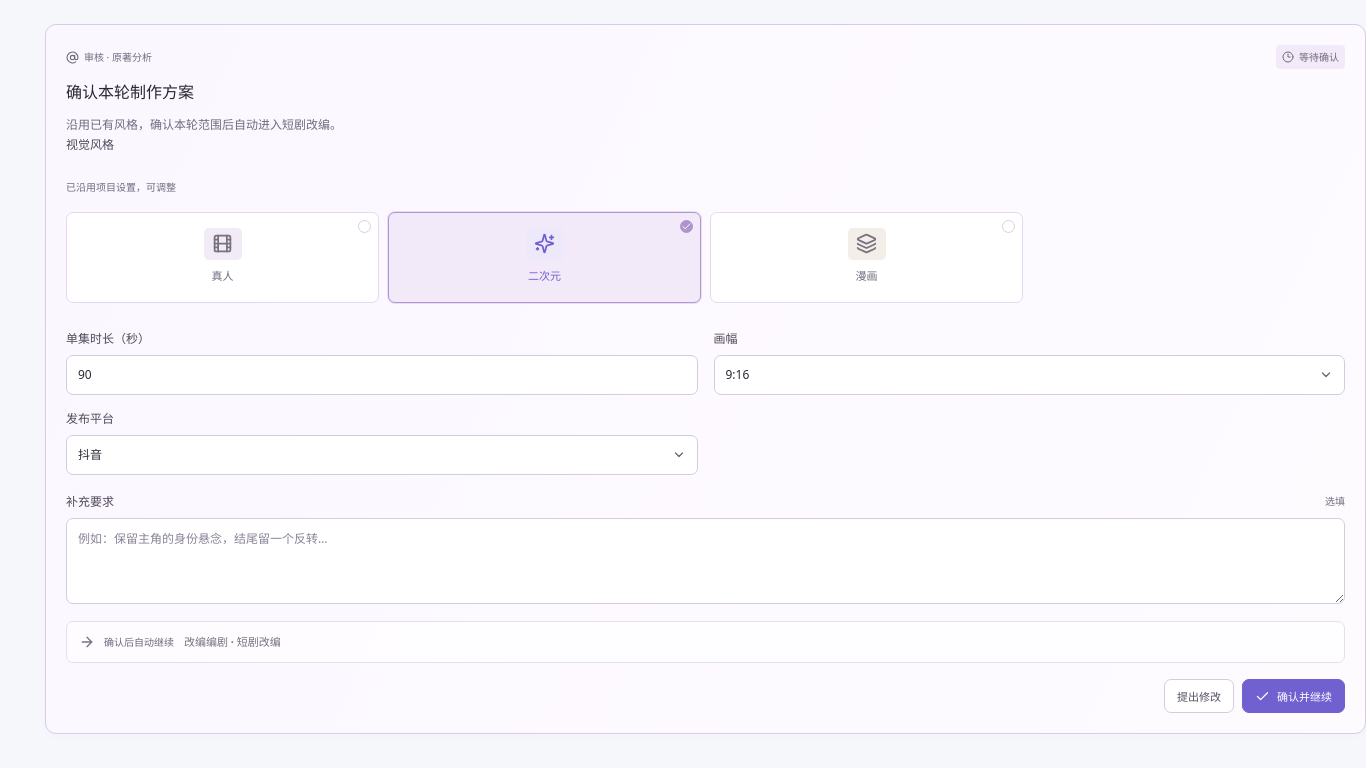
structured workflow approvals › submits editable production answers and optional approval notes together
The width and height of the screenshot is (1366, 768).
Replace the text in the field labelled "单集时长（秒）" with "120" at {"x": 382, "y": 375}, box [66, 355, 698, 395]
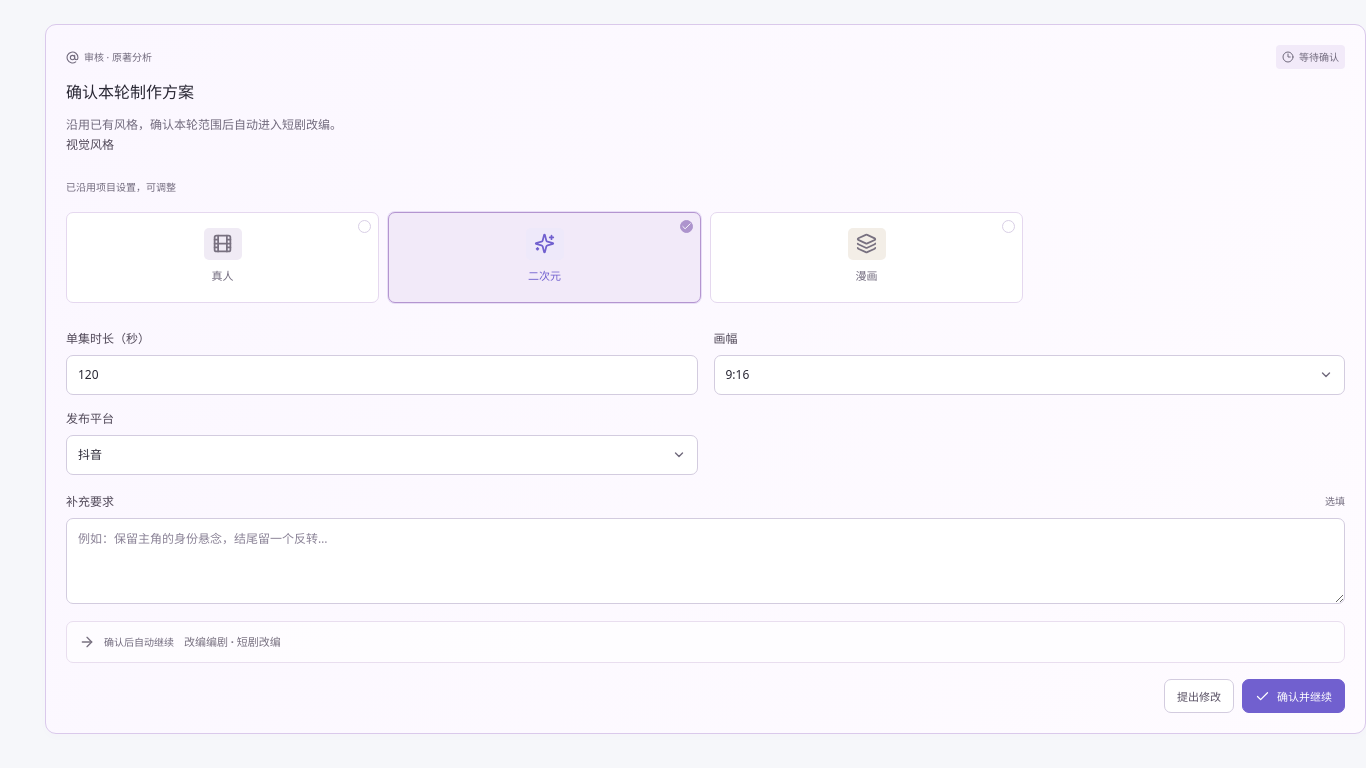
Click the dropdown named "画幅" at {"x": 737, "y": 374}, box [714, 355, 1345, 395]
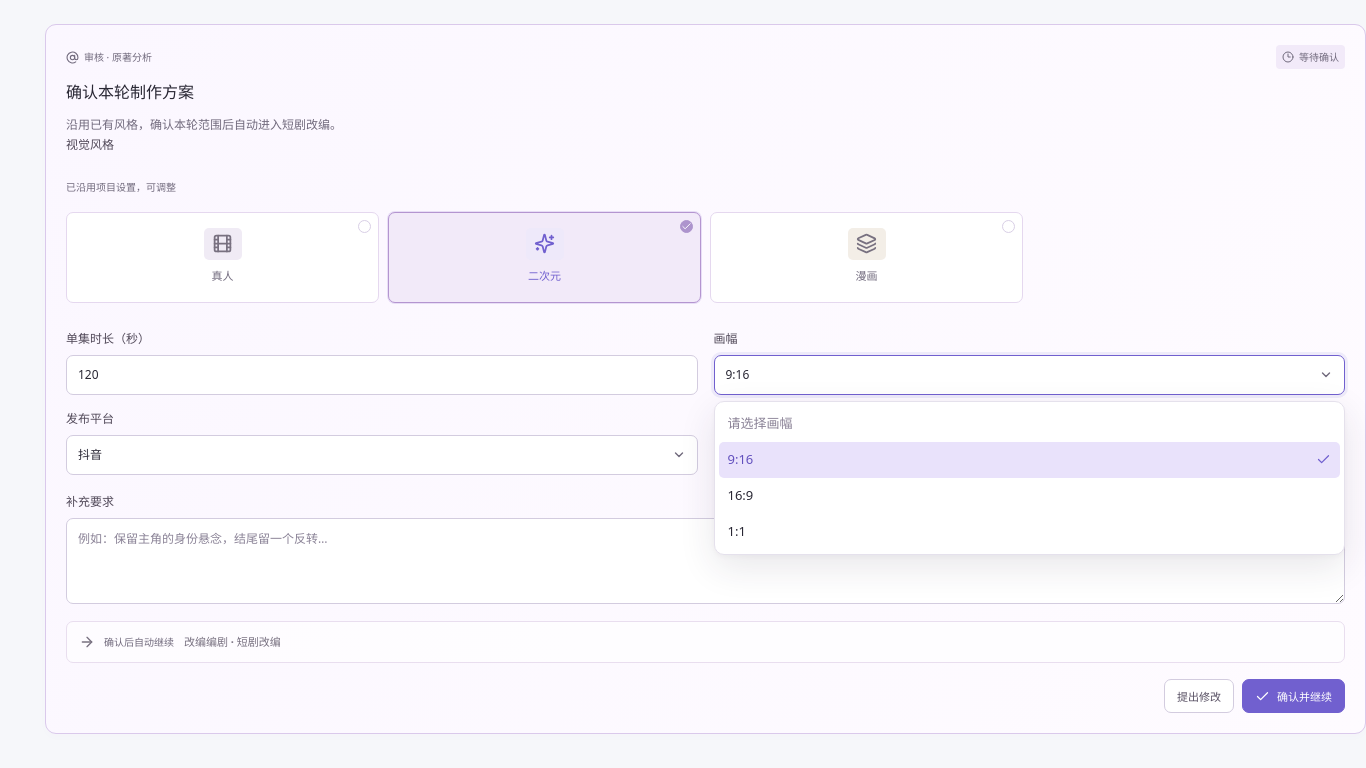
Click the option "16:9" at {"x": 740, "y": 495}, box [728, 486, 753, 504]
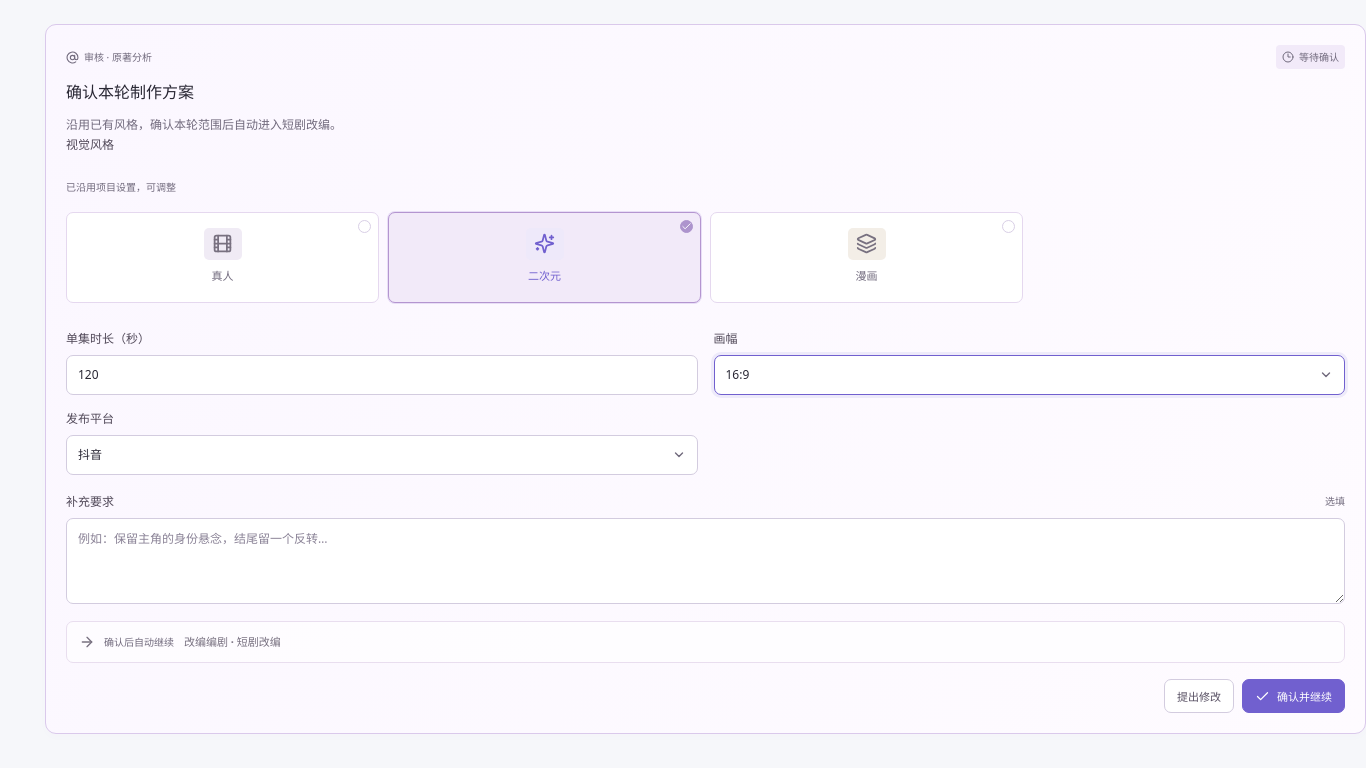
Type "  保留主角身份悬念  " into the text box labelled "补充要求 选填" at {"x": 706, "y": 561}, box [66, 518, 1345, 604]
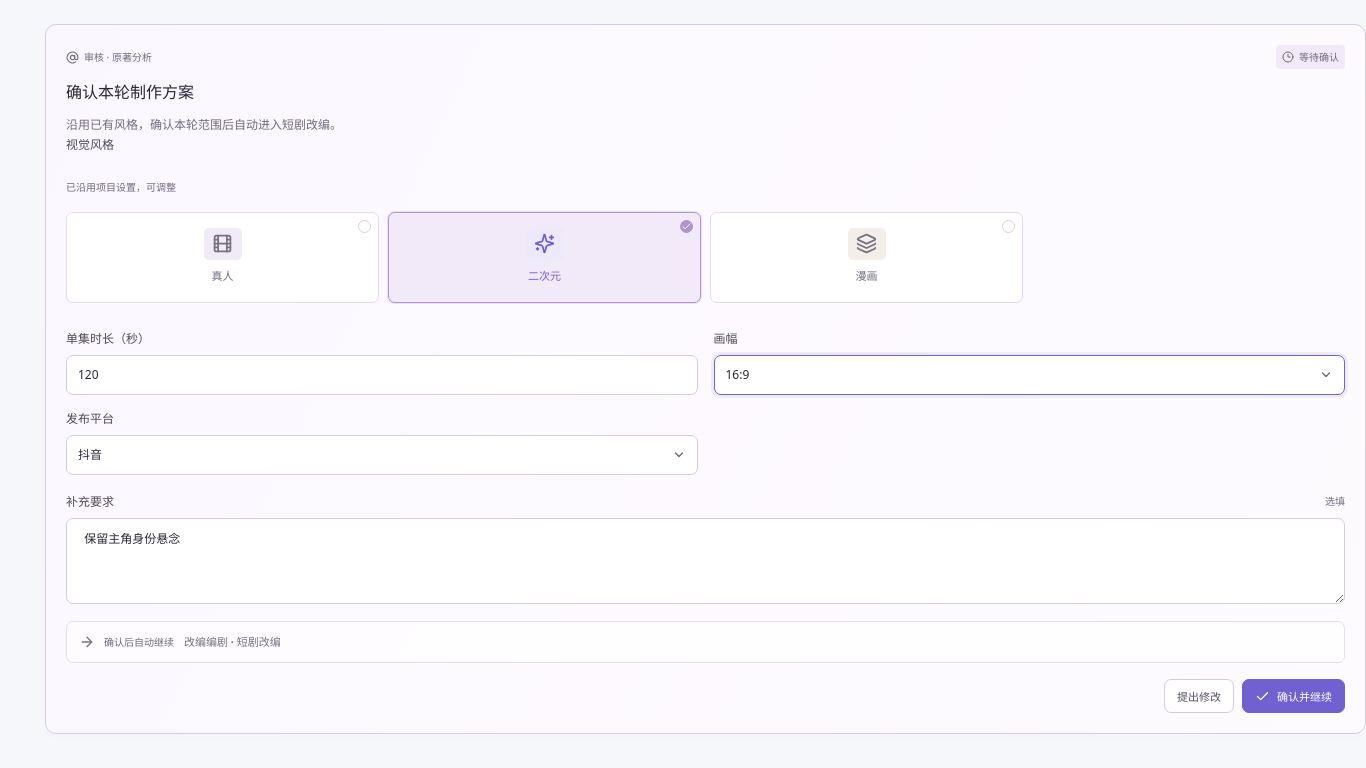
Click the button "确认并继续" at {"x": 1294, "y": 696}, box [1242, 680, 1345, 714]
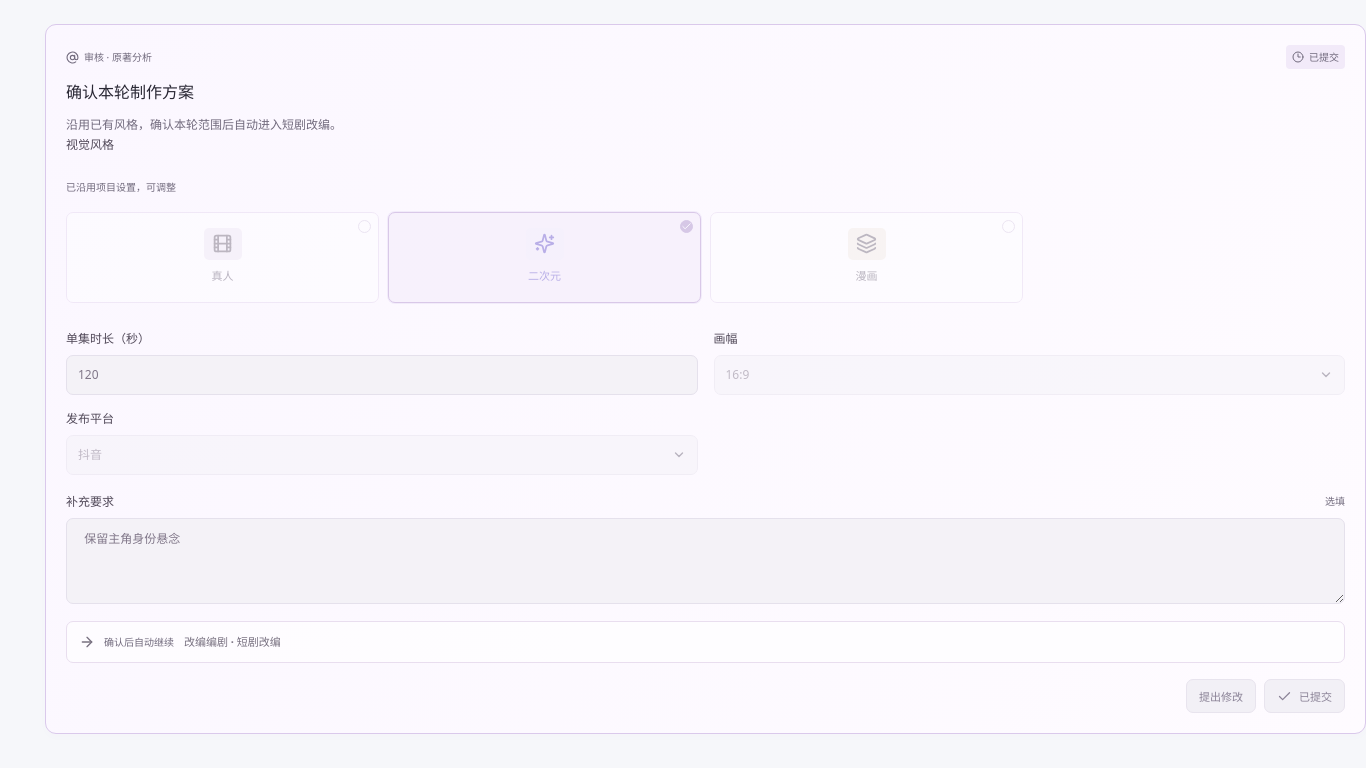
Now the button "已提交" is disabled, box [1264, 680, 1345, 714]
